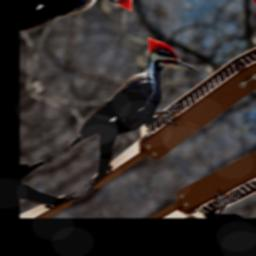Woodpecker: (30, 23, 224, 194)
